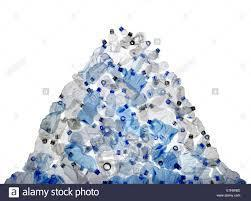bottle: (110, 32, 158, 54), (39, 0, 64, 31), (128, 52, 169, 70), (146, 96, 174, 119), (10, 156, 36, 180), (49, 104, 73, 126), (2, 168, 26, 186), (66, 165, 90, 183), (0, 0, 24, 18), (163, 74, 184, 94), (74, 126, 97, 142), (103, 0, 132, 12), (108, 175, 148, 183), (67, 80, 83, 99), (106, 90, 116, 119), (110, 50, 121, 74), (68, 143, 80, 159), (18, 144, 26, 166), (2, 114, 4, 152), (95, 86, 101, 96), (34, 176, 61, 178), (130, 72, 132, 96), (128, 106, 129, 128)
